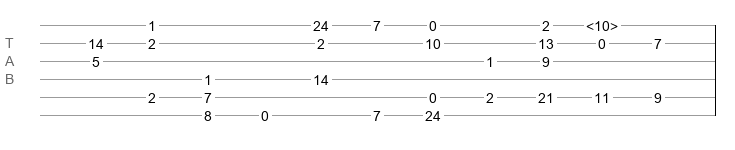0: (261, 108, 269, 118), (429, 18, 437, 28), (429, 90, 437, 100), (598, 36, 606, 46)
1: (148, 18, 156, 28), (204, 72, 212, 82), (486, 54, 494, 64)
10: (425, 36, 441, 46)
11: (594, 90, 610, 100)
13: (538, 36, 554, 46)
14: (88, 36, 104, 46), (313, 72, 329, 82)
2: (148, 90, 156, 100), (148, 36, 156, 46), (317, 36, 325, 46), (486, 90, 494, 100), (542, 18, 550, 28)
21: (538, 90, 554, 100)
24: (313, 18, 329, 28), (425, 108, 441, 118)
5: (92, 54, 100, 64)
7: (204, 90, 212, 100), (373, 108, 381, 118), (373, 18, 381, 28), (654, 36, 662, 46)
8: (204, 108, 212, 118)
9: (542, 54, 550, 64), (654, 90, 662, 100)
harmonic: (586, 18, 618, 28)
